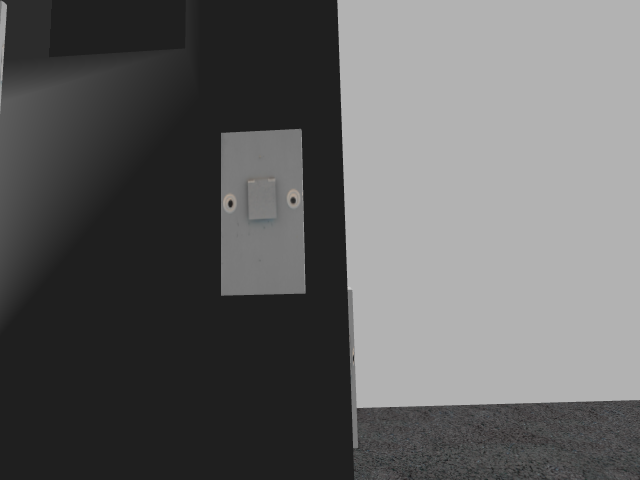facade: (222, 175, 300, 222)
